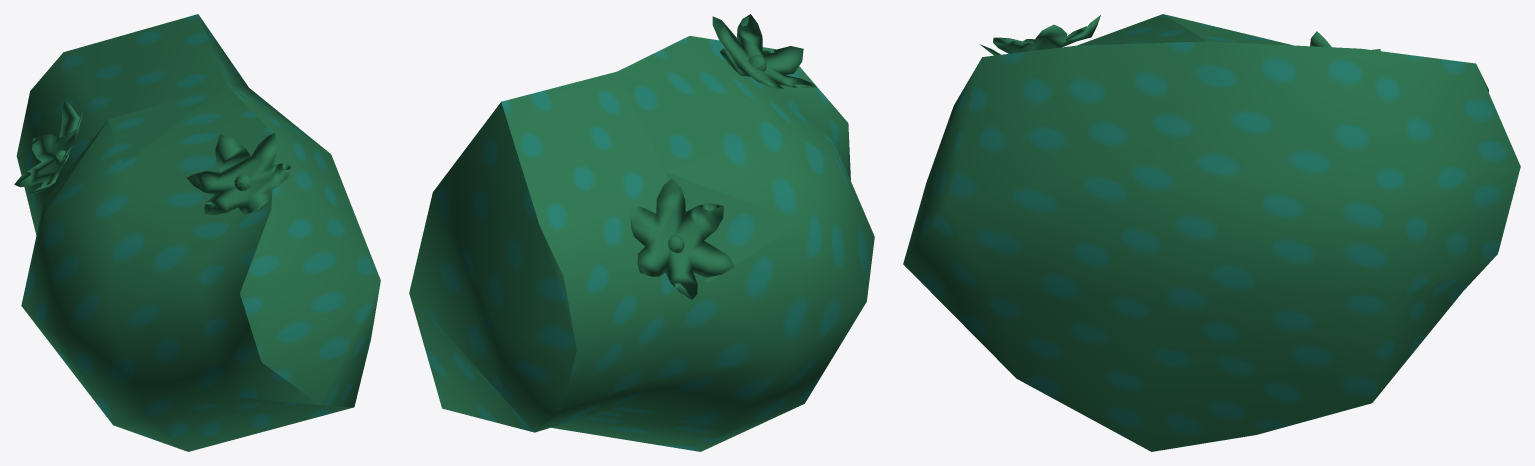
Rendered from Copa7_EXP.fbx.
3 renders of one model, left to right at view 1: azimuth 30°, elevation 25°; view 2: azimuth 150°, elevation 25°; view 3: azimuth 270°, elevation 25°, orthographic. The views are drawn at different scales.
Parts seen in each view (by area): view 1: Copa_7EXP; view 2: Copa_7EXP; view 3: Copa_7EXP.
Boxes of the visible parts, <box> form: Copa_7EXP: <box>14,14,380,451</box>; Copa_7EXP: <box>409,14,874,451</box>; Copa_7EXP: <box>903,14,1520,451</box>.
Bounding box in the file's own units: 41 × 44.36 × 62.88.
1 material, 1 textured.
